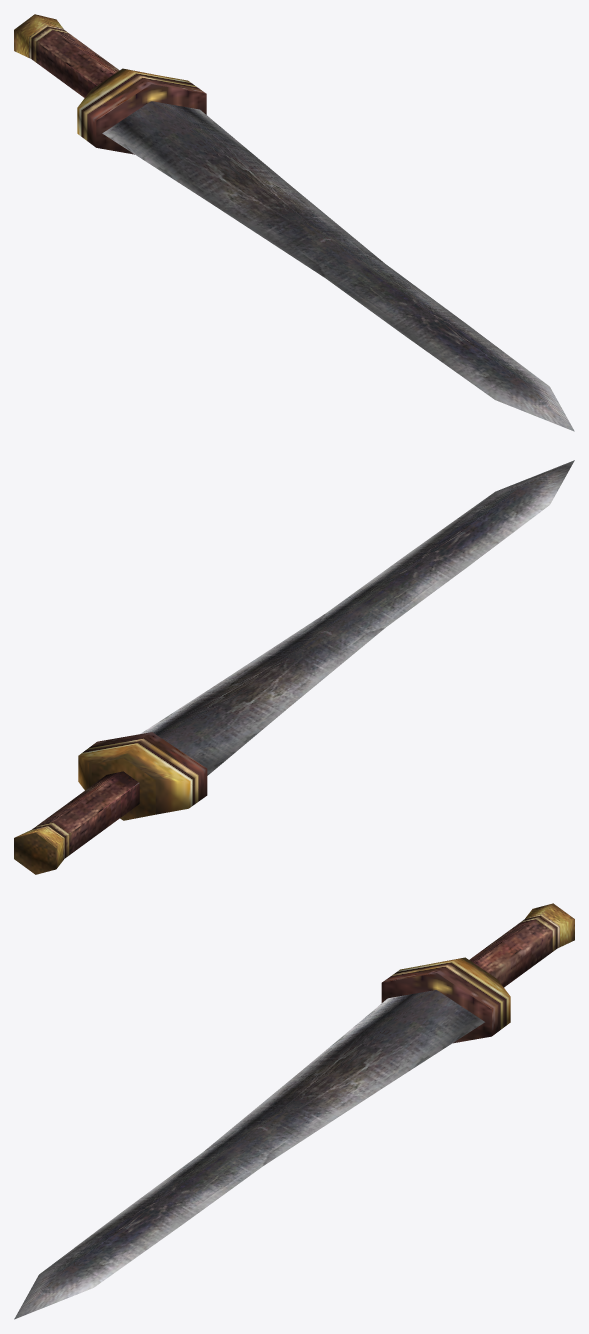
The model's file is sword_01.glb.
3 views of the same model, one above another, from view 1: azimuth 30°, elevation 25°; view 2: azimuth 150°, elevation 25°; view 3: azimuth 330°, elevation 25° (orthographic).
Visible parts, largest first — view 1: sword_01; view 2: sword_01; view 3: sword_01.
Part boxes in pixels (x1=…): sword_01: x1=14, y1=14, x2=574, y2=431; sword_01: x1=14, y1=460, x2=574, y2=874; sword_01: x1=14, y1=903, x2=574, y2=1319.
Bounding box in the file's own units: 0.0996 × 0.0631 × 0.8424.
Materials: 1 (1 with a texture image).
